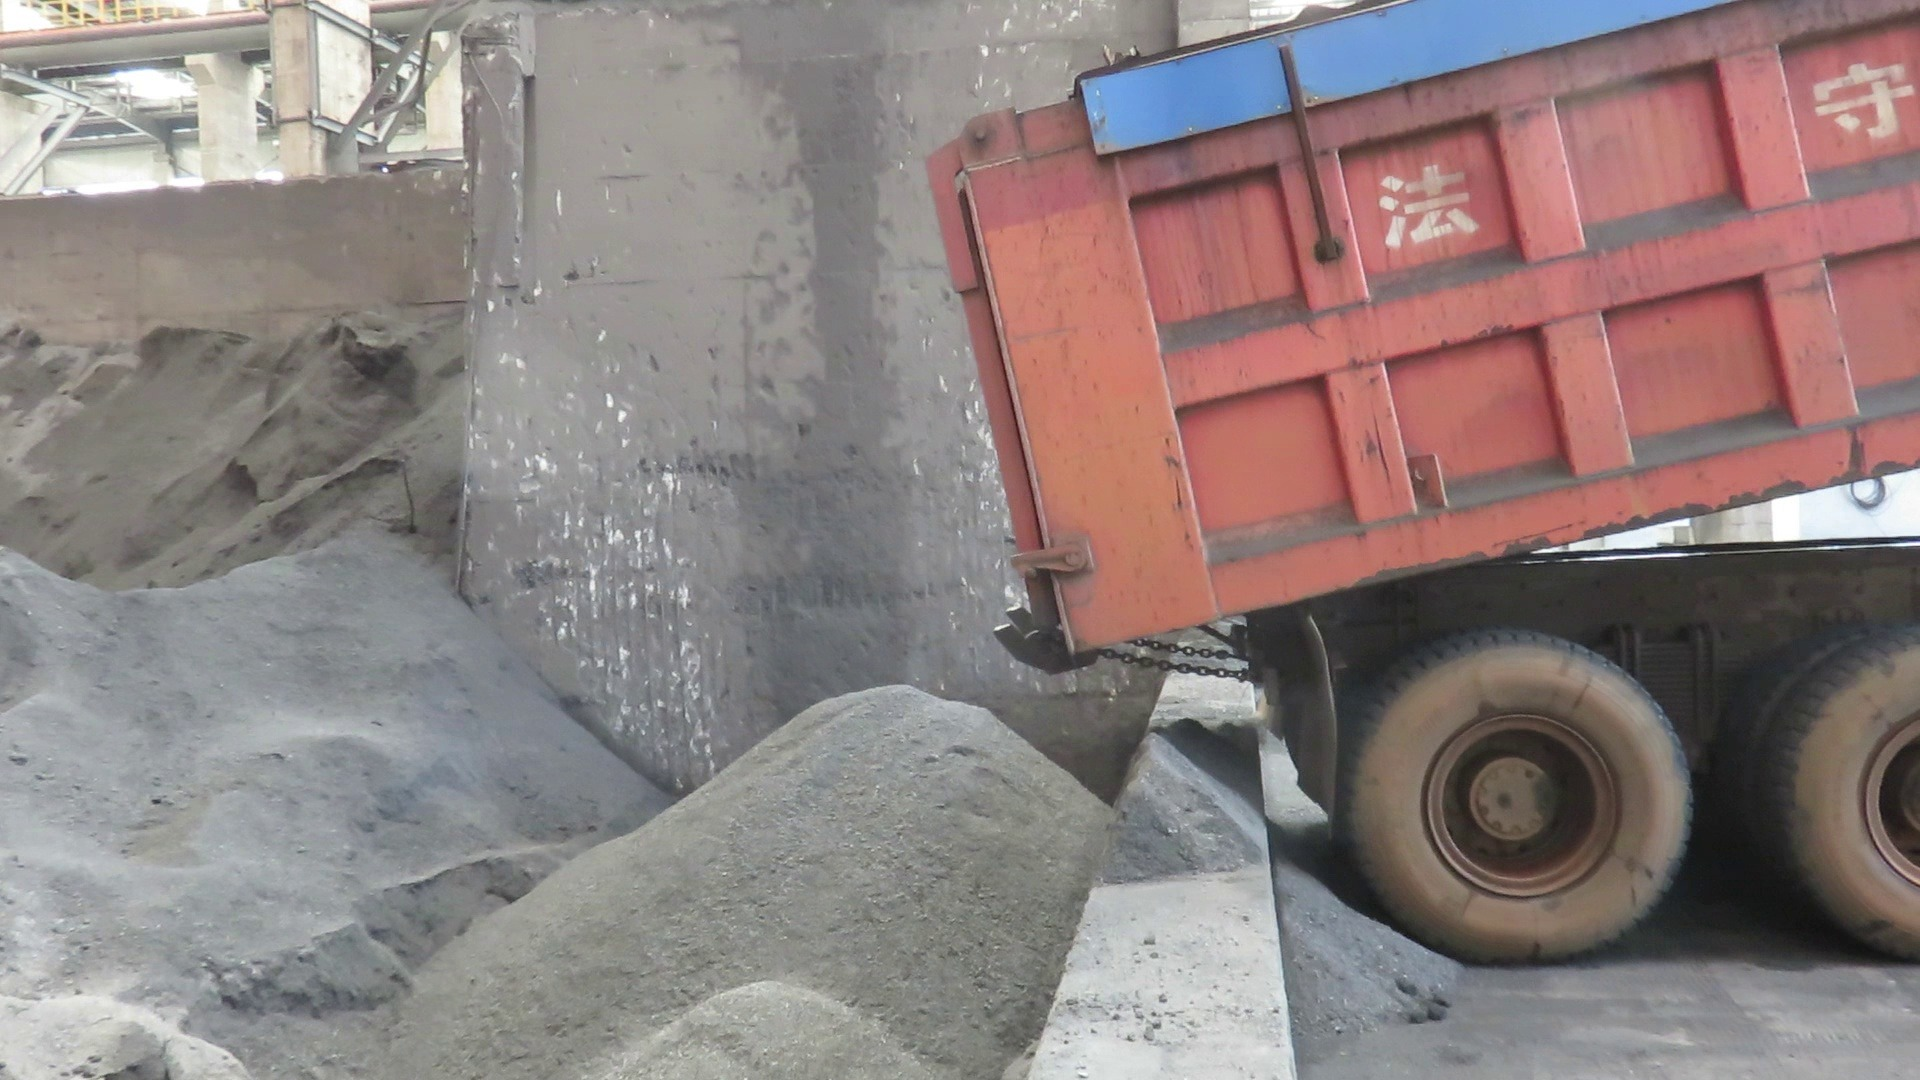truck: (914, 0, 1920, 994)
